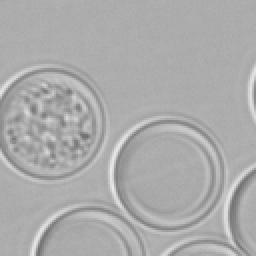picoshell: (108, 114, 226, 232), (0, 62, 108, 182), (26, 200, 148, 254), (222, 162, 254, 254), (160, 234, 244, 254), (246, 62, 254, 122)
